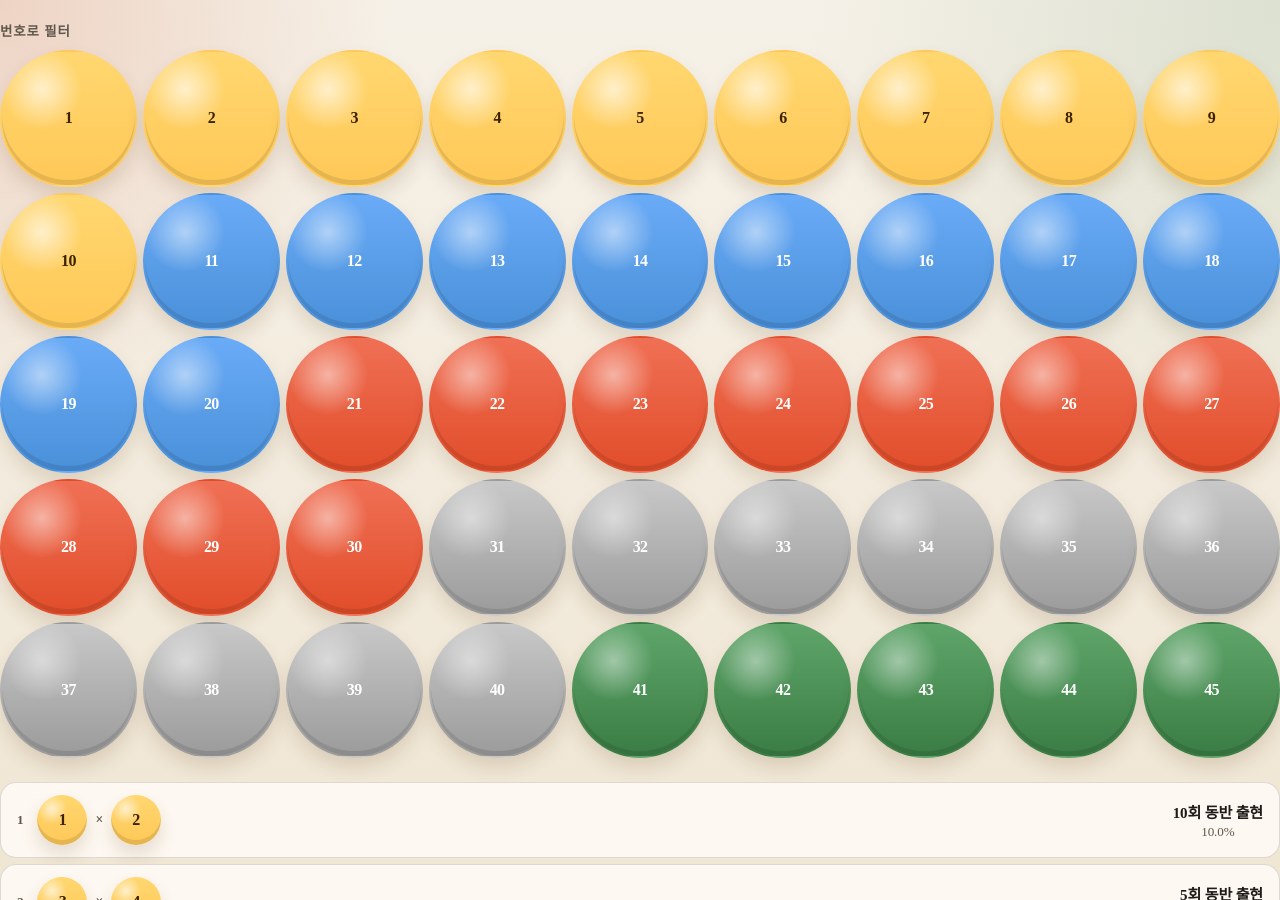
동반 출현 필터 › 재시도 클릭 시 다시 요청한다
The image size is (1280, 900).
Click the button "7" at (926, 118), box [857, 50, 994, 187]
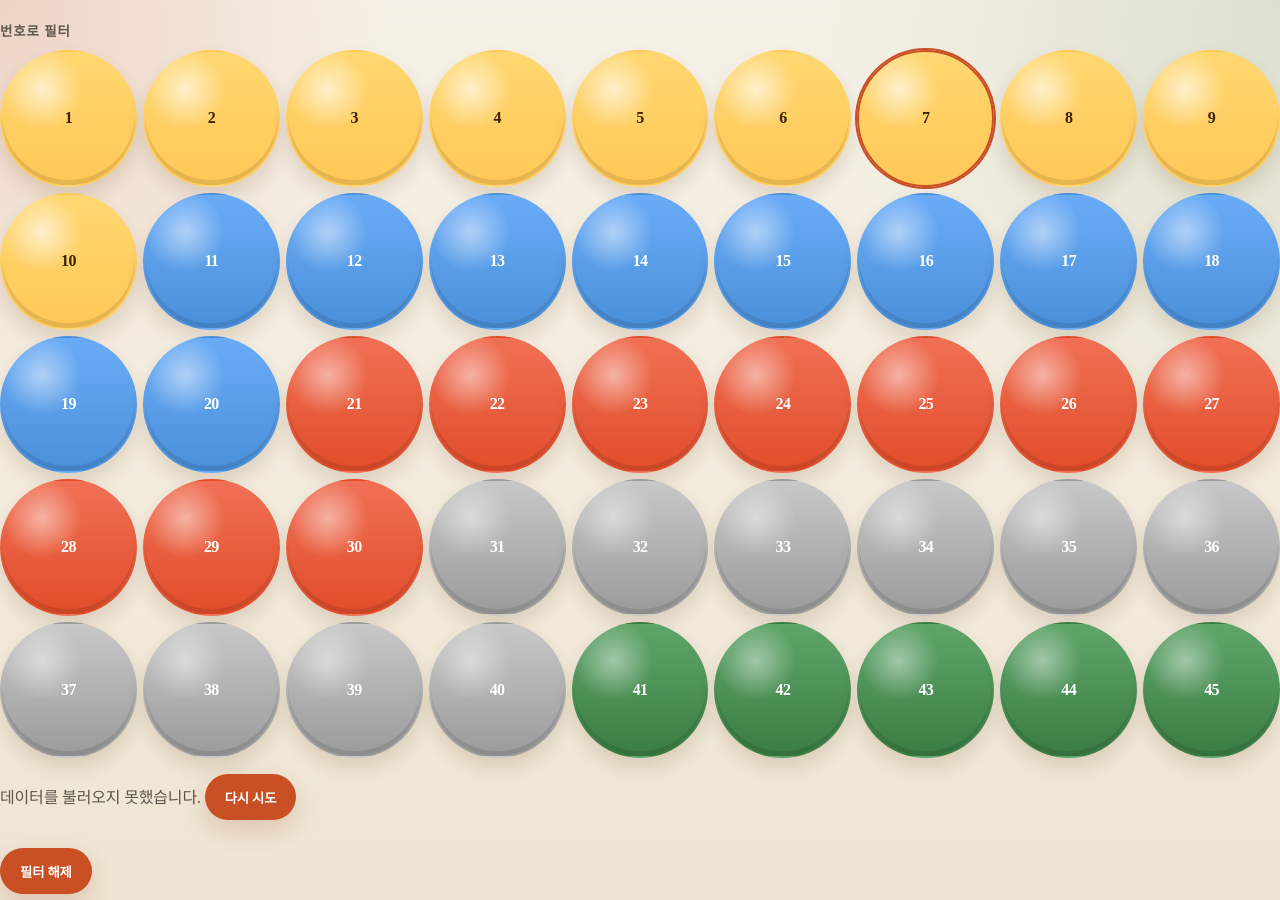
Now the button "다시 시도" is shown
Click the button "다시 시도" at (251, 798), box [205, 774, 296, 820]
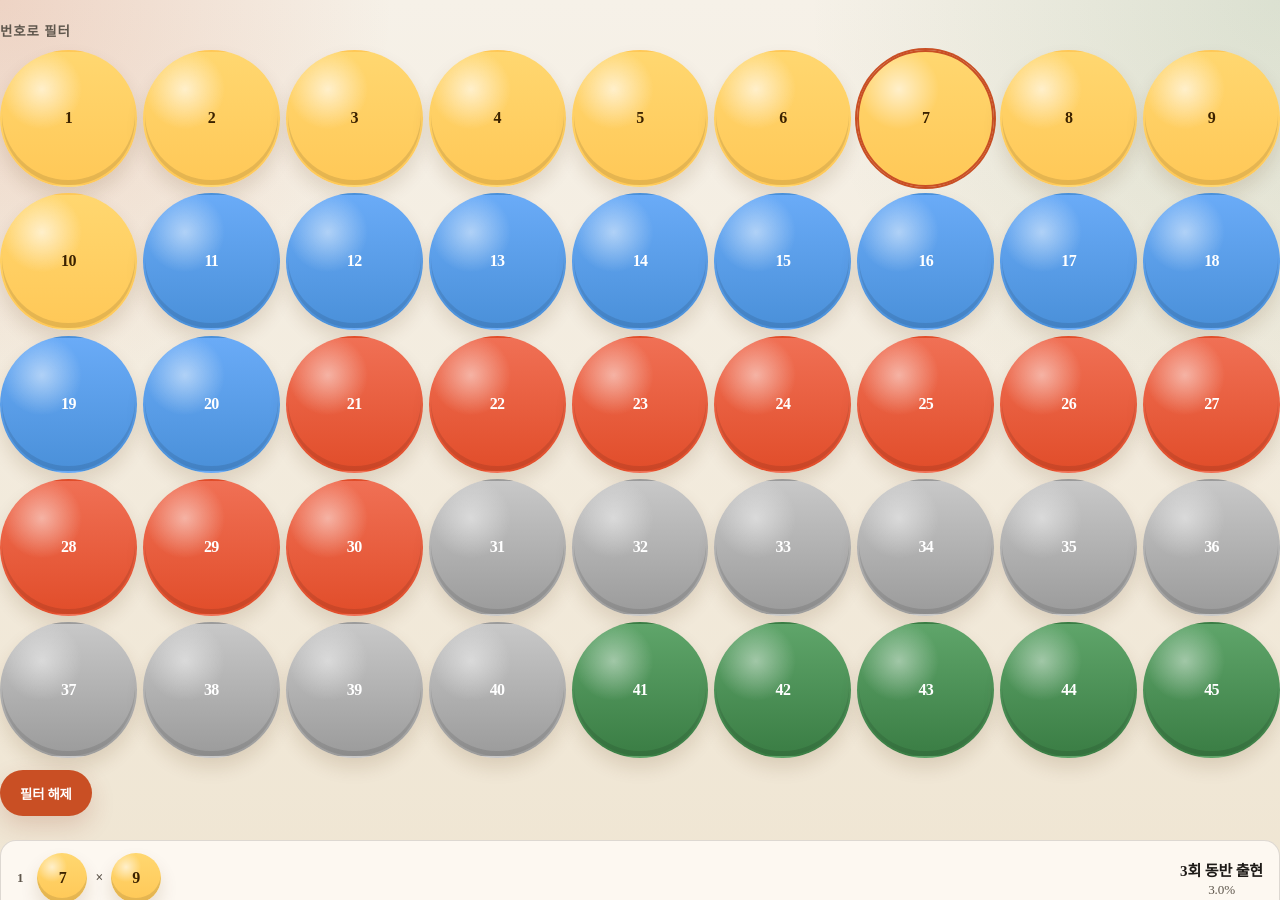
Now the text "3회 동반 출현" is shown, box [1180, 859, 1263, 880]
